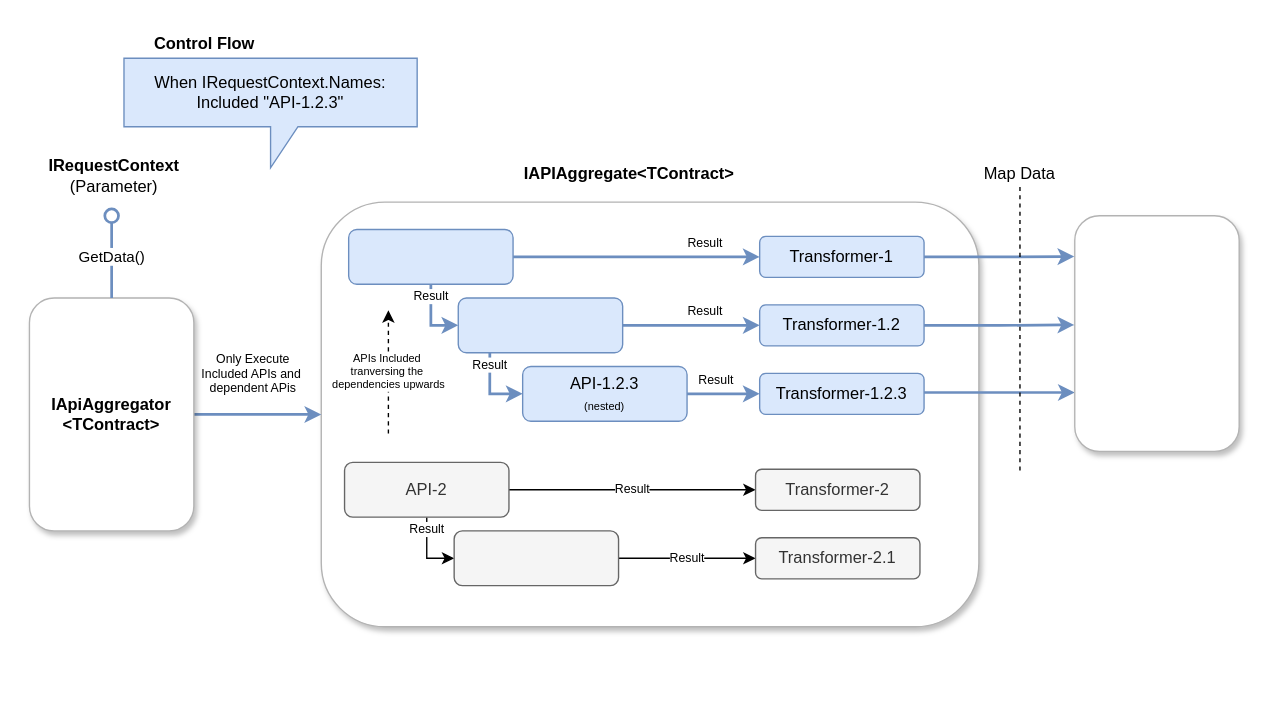
The diagram is 1271 pixels wide and 708 high, and some of its shapes have lost their labels. The centre of each missing label's shape, as x and y in pixels:
"Aggregate Contract (IContract)" belongs at (x=1157, y=335).
"API-1" belongs at (x=430, y=256).
"API-1.2 (nested)" belongs at (x=540, y=325).
"API-2.1 (nested)" belongs at (x=536, y=558).
